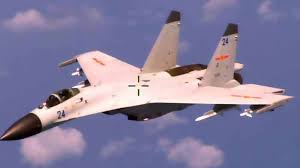fighter: (1, 8, 294, 145)
